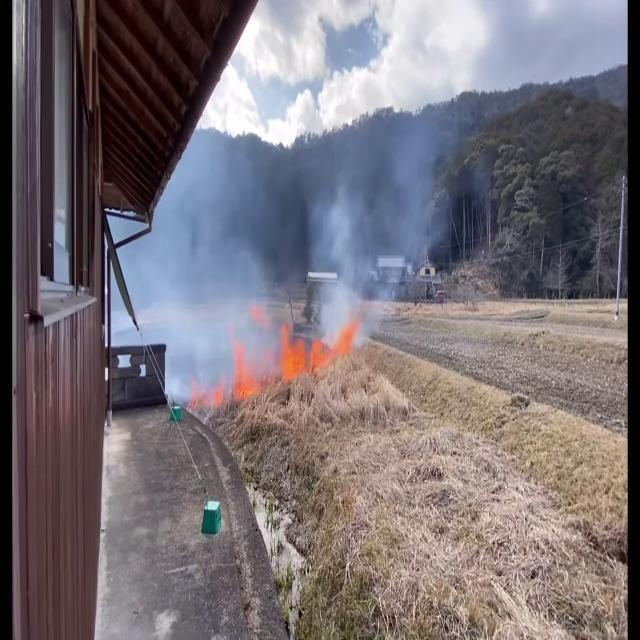Fire: (277, 318, 332, 388), (228, 329, 264, 415)
Smoke: (140, 116, 290, 414), (304, 68, 456, 348)
